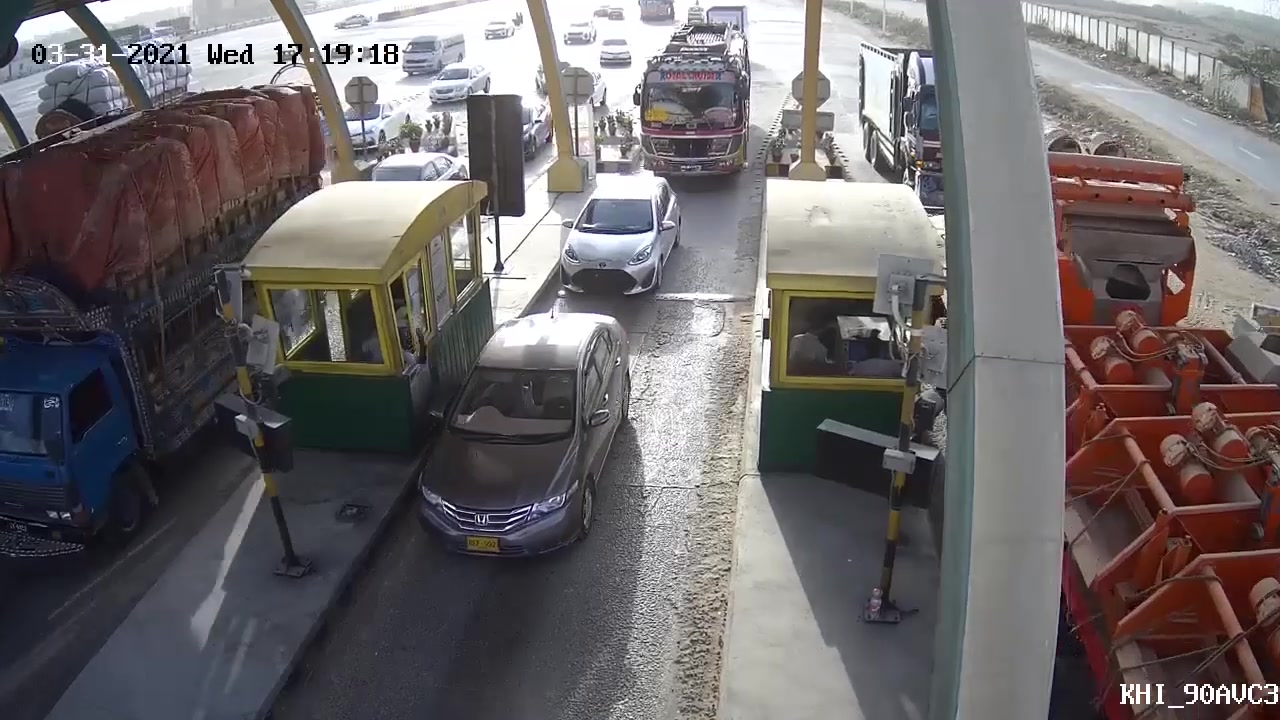F1: (398, 307, 642, 579), (530, 167, 691, 303)
